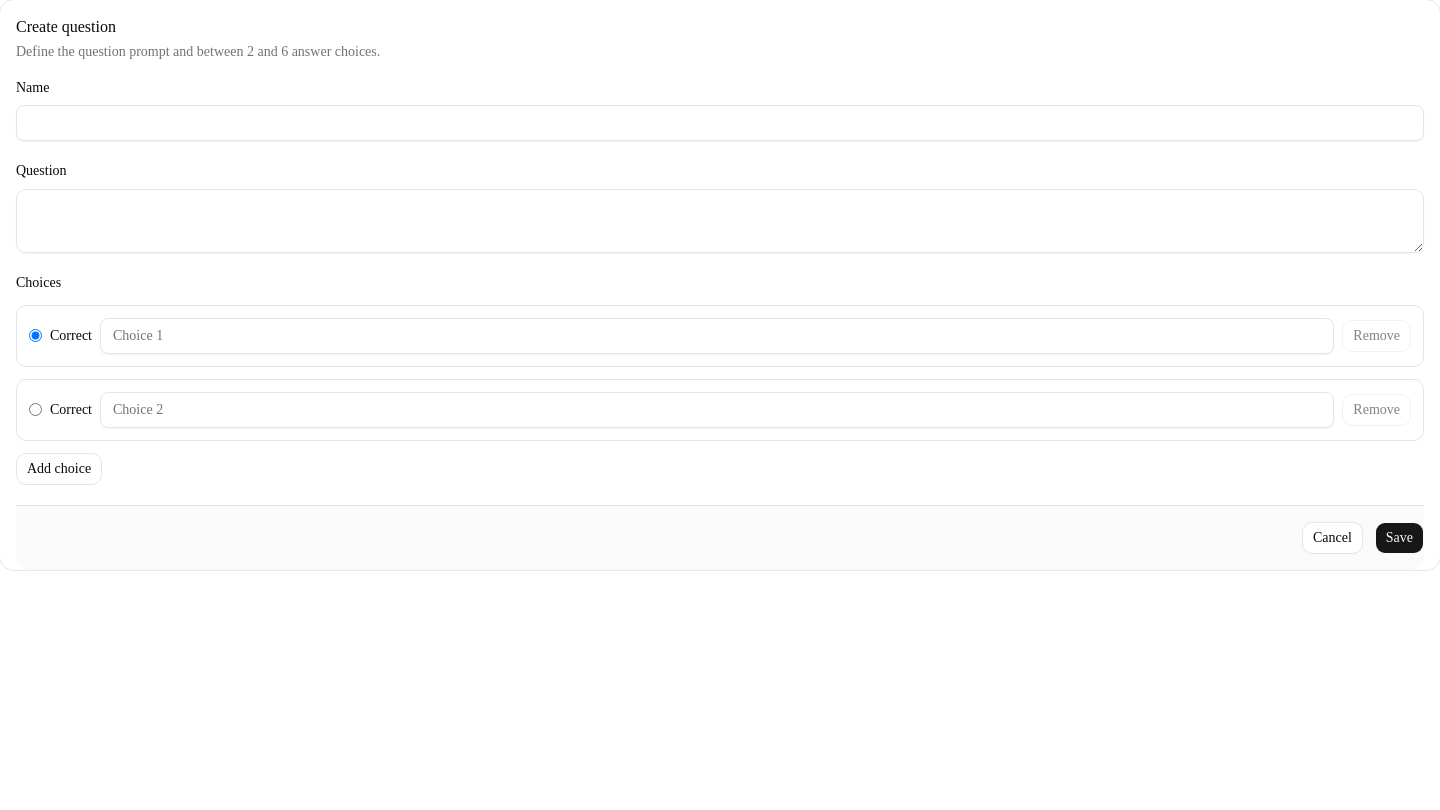
Test: McqForm › shows validation errors for empty required fields
The image size is (1440, 810).
Click the button "Save" at (1399, 538), box [1375,522,1424,554]
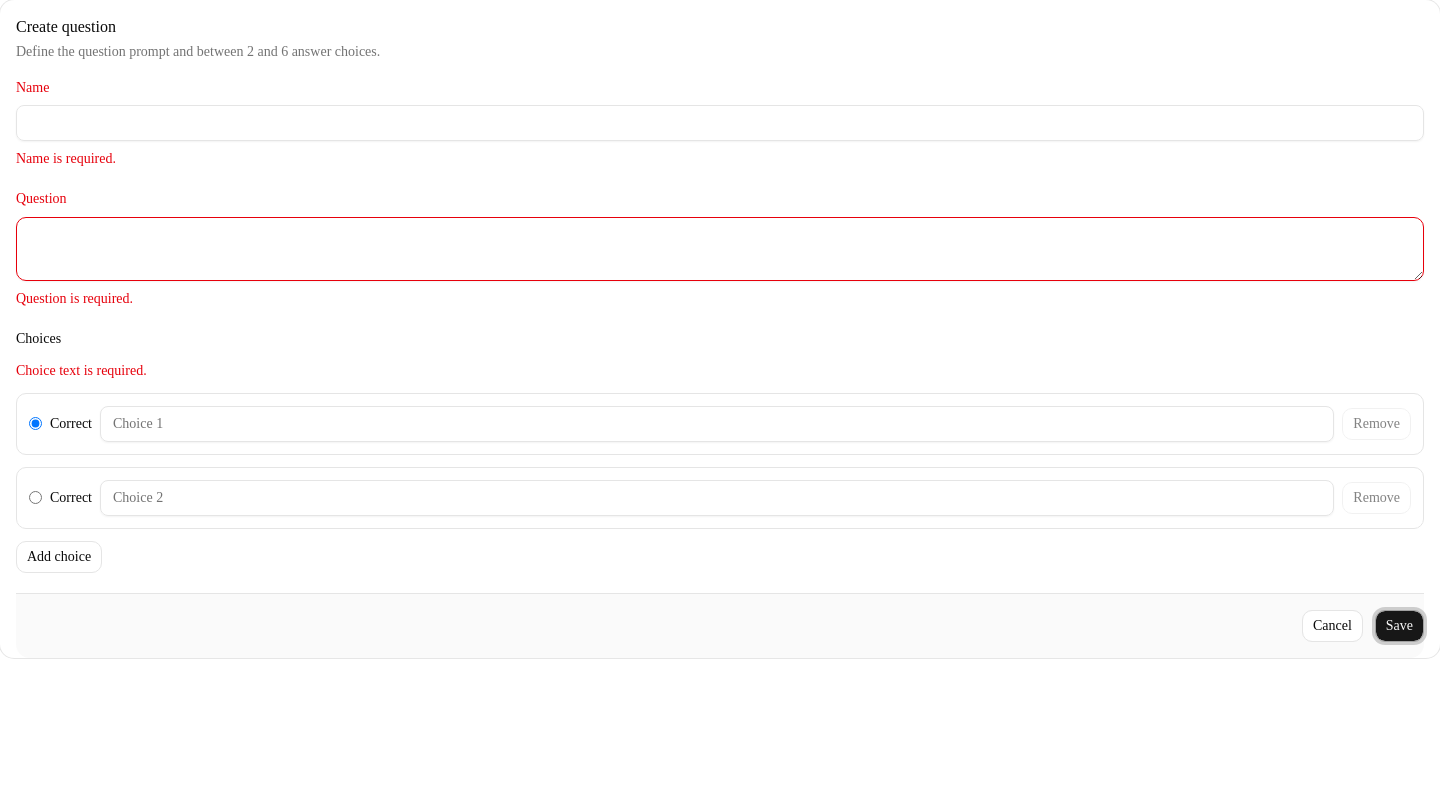
Expected: the text "Name is required." is shown, [16,151,116,166]
Expected: the text "Question is required." is shown, [16,290,133,306]
Expected: the text "Choice text is required." is shown, [16,362,147,378]
